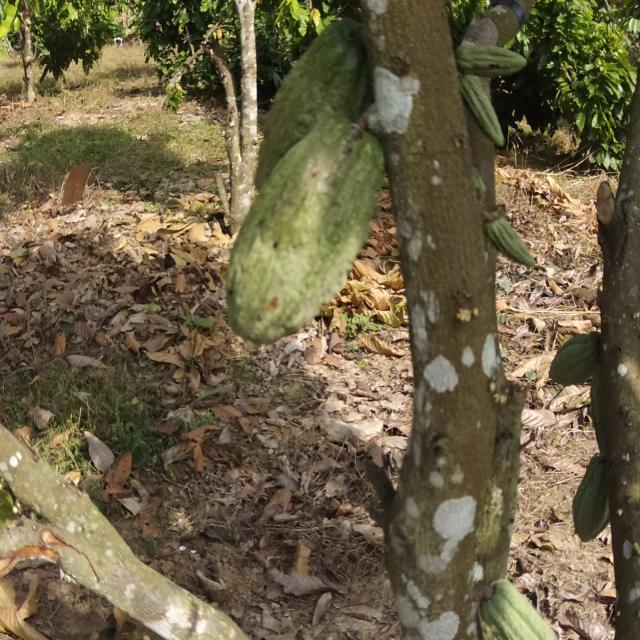Immature: (444, 27, 546, 158), (477, 202, 543, 286)
Mature_Unripe: (226, 18, 396, 340), (571, 445, 621, 550), (547, 333, 604, 398)
